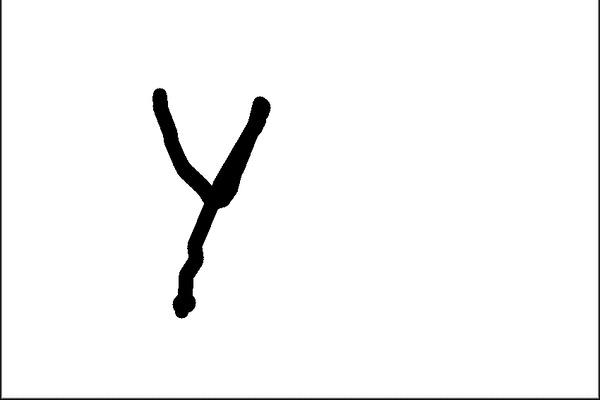Y: (142, 72, 285, 337)
